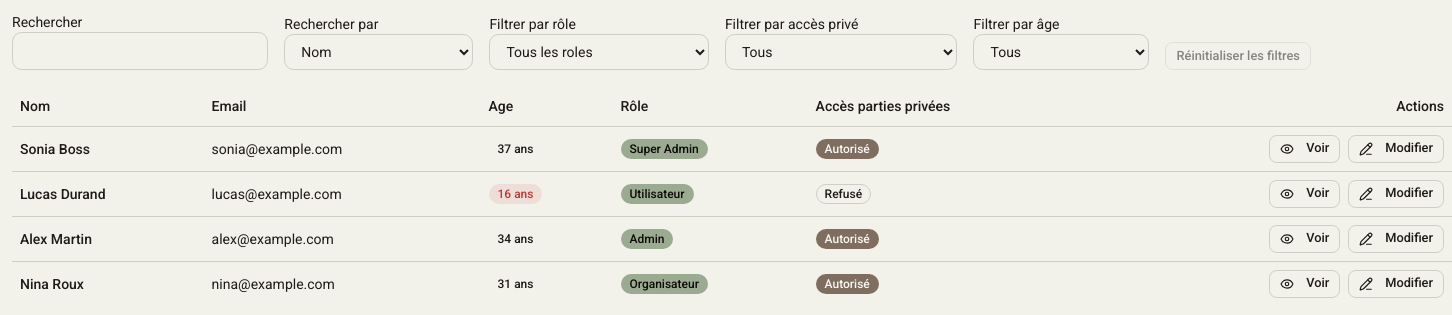
UserTable › filters by age category (majeur/mineur)
The width and height of the screenshot is (1452, 315).
Select "Mineur" in the dropdown labelled "Filtrer par âge": [1062, 52] box [974,34,1150,70]
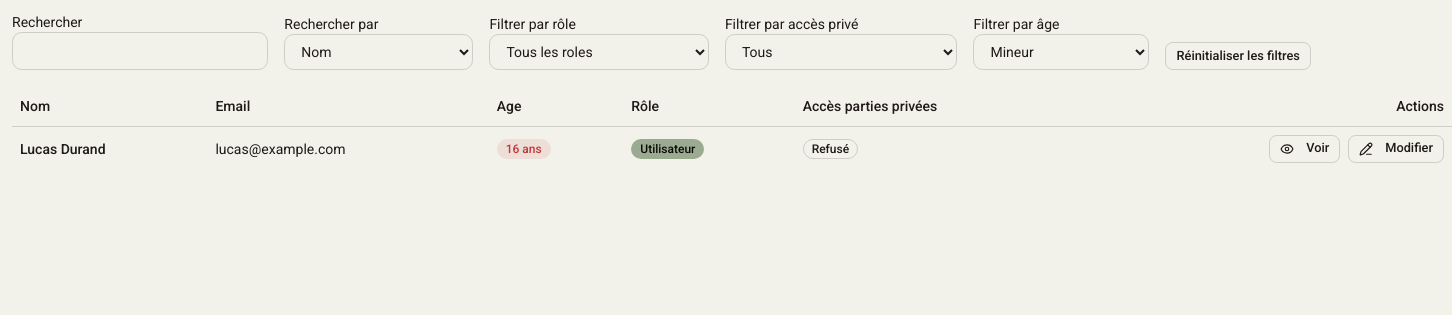
Now the text "Alex Martin" is gone
Now the text "Nina Roux" is gone
Now the text "Sonia Boss" is gone
Select "Majeur" in the dropdown labelled "Filtrer par âge": [1062, 52] box [974,34,1150,70]
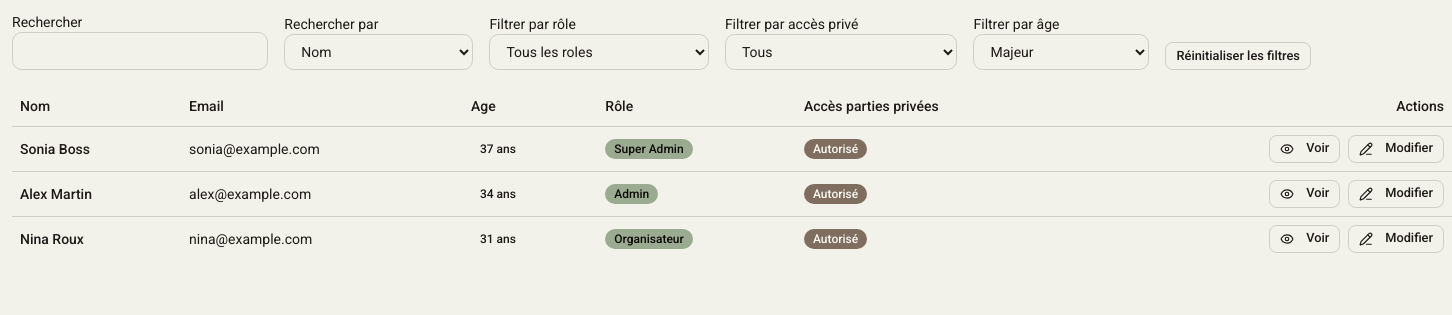
Now the text "Alex Martin" is shown, box [12,171,181,216]
Now the text "Nina Roux" is shown, box [12,216,181,260]
Now the text "Sonia Boss" is shown, box [12,126,181,171]
